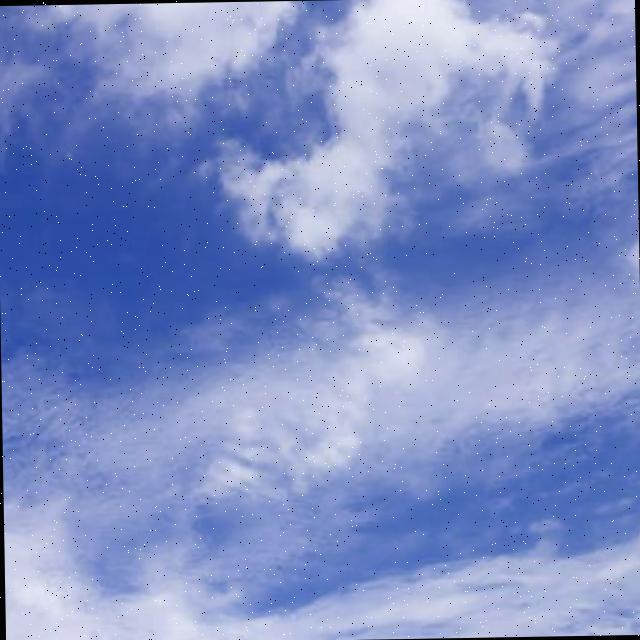Ci: (1, 20, 640, 616)
